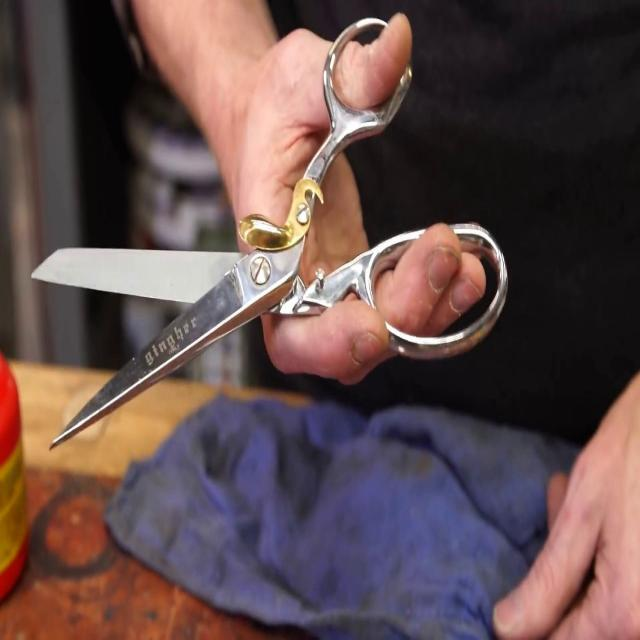scissor: (32, 13, 508, 450)
